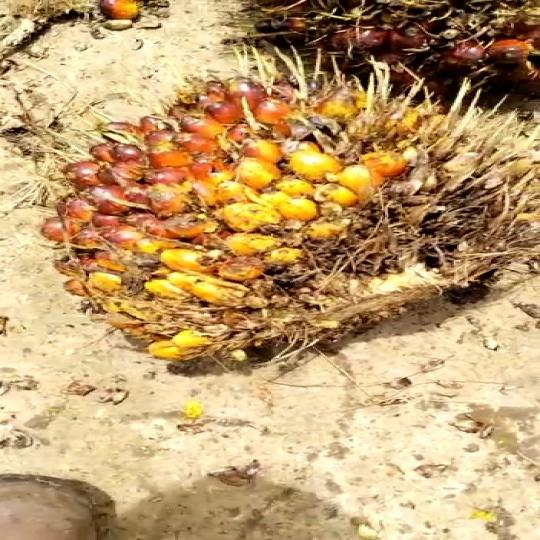masak: (53, 87, 540, 357)
